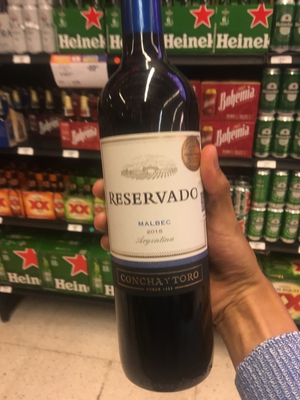reservado malbec: (92, 6, 216, 393)
